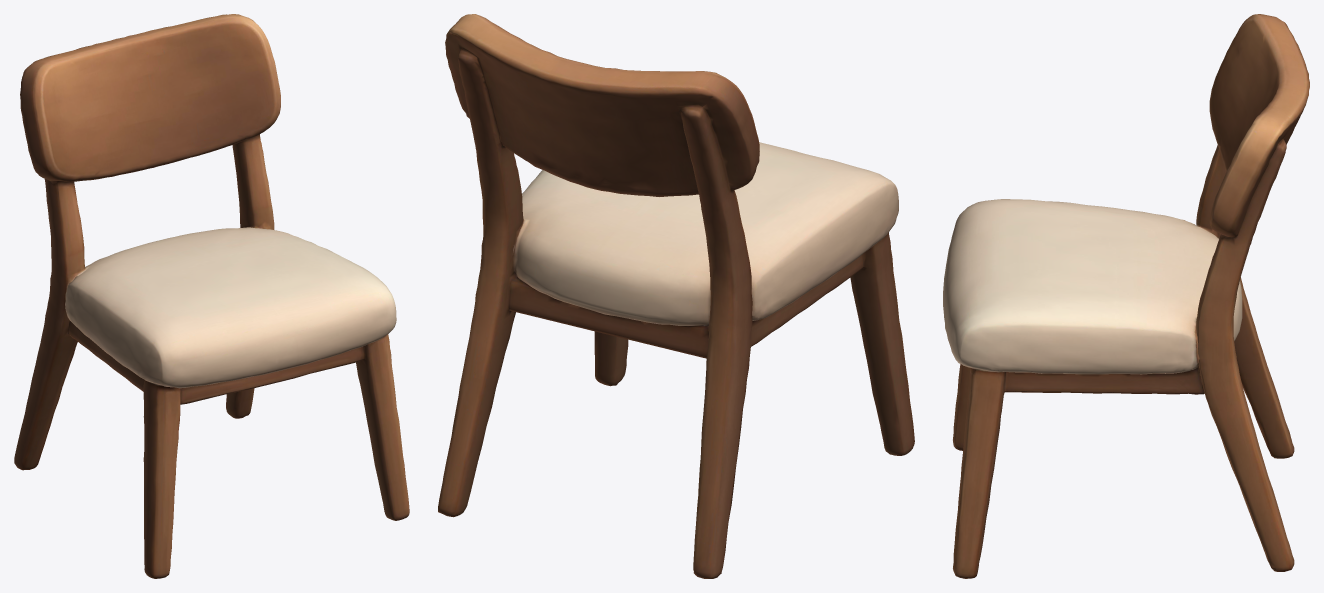
Rendered from oak-dining-chair-stylized-v2.glb.
3 renders of one model, left to right at view 1: azimuth 30°, elevation 25°; view 2: azimuth 150°, elevation 25°; view 3: azimuth 270°, elevation 25°, orthographic. The views are drawn at different scales.
Visible parts, largest first — view 1: oak-dining-chair-stylized-v2; view 2: oak-dining-chair-stylized-v2; view 3: oak-dining-chair-stylized-v2.
Part boxes in pixels (box(x1,y1,x2,y2)): oak-dining-chair-stylized-v2: box(14, 14, 409, 578); oak-dining-chair-stylized-v2: box(438, 14, 914, 578); oak-dining-chair-stylized-v2: box(943, 14, 1309, 578).
Bounding box in the file's own units: 0.5639 × 0.85 × 0.6338.
Materials: 1 (1 with a texture image).
